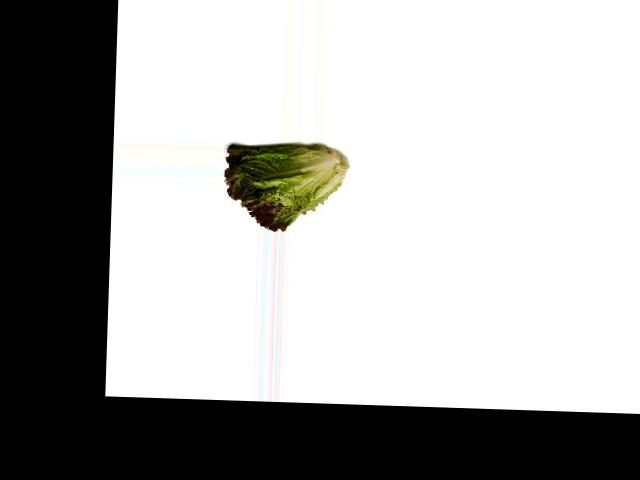lettuce: (220, 143, 347, 231)
